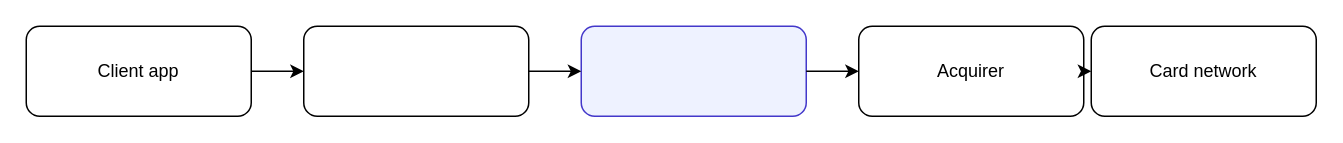
This 1343x143 diagram has some shape labels left out. Each missing label, with the box of its shape:
API gateway: (302, 25, 529, 116)
Payment service: (580, 25, 806, 116)
